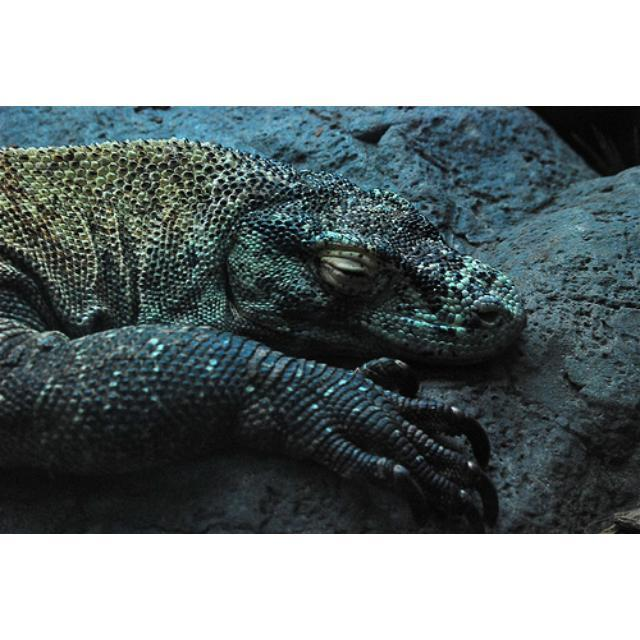KomodoDragon: (0, 136, 528, 531)
